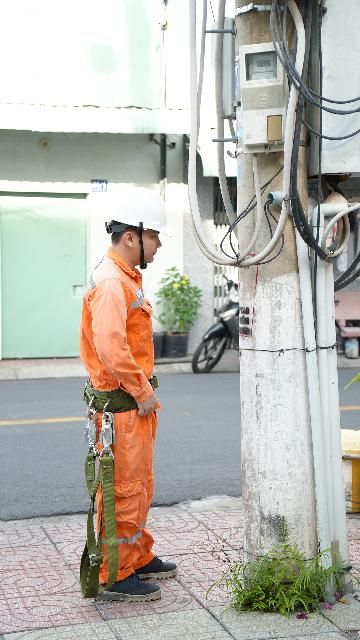harness: (44, 375, 175, 407)
helmet: (84, 190, 183, 238)
shoes: (85, 573, 167, 607), (118, 552, 190, 582)
